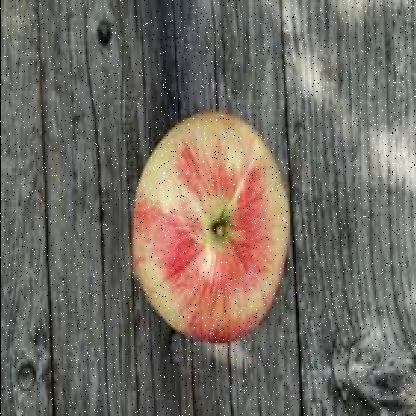apple: (133, 112, 281, 334)
